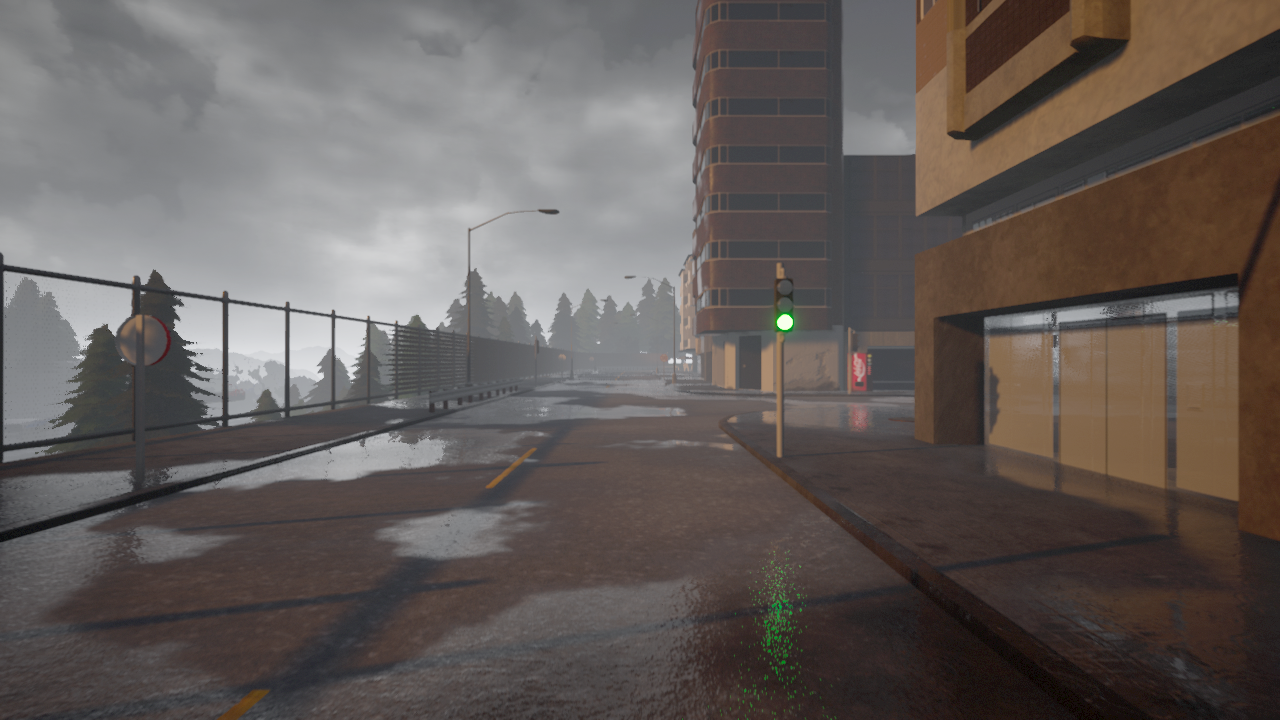green: (772, 276, 793, 332)
